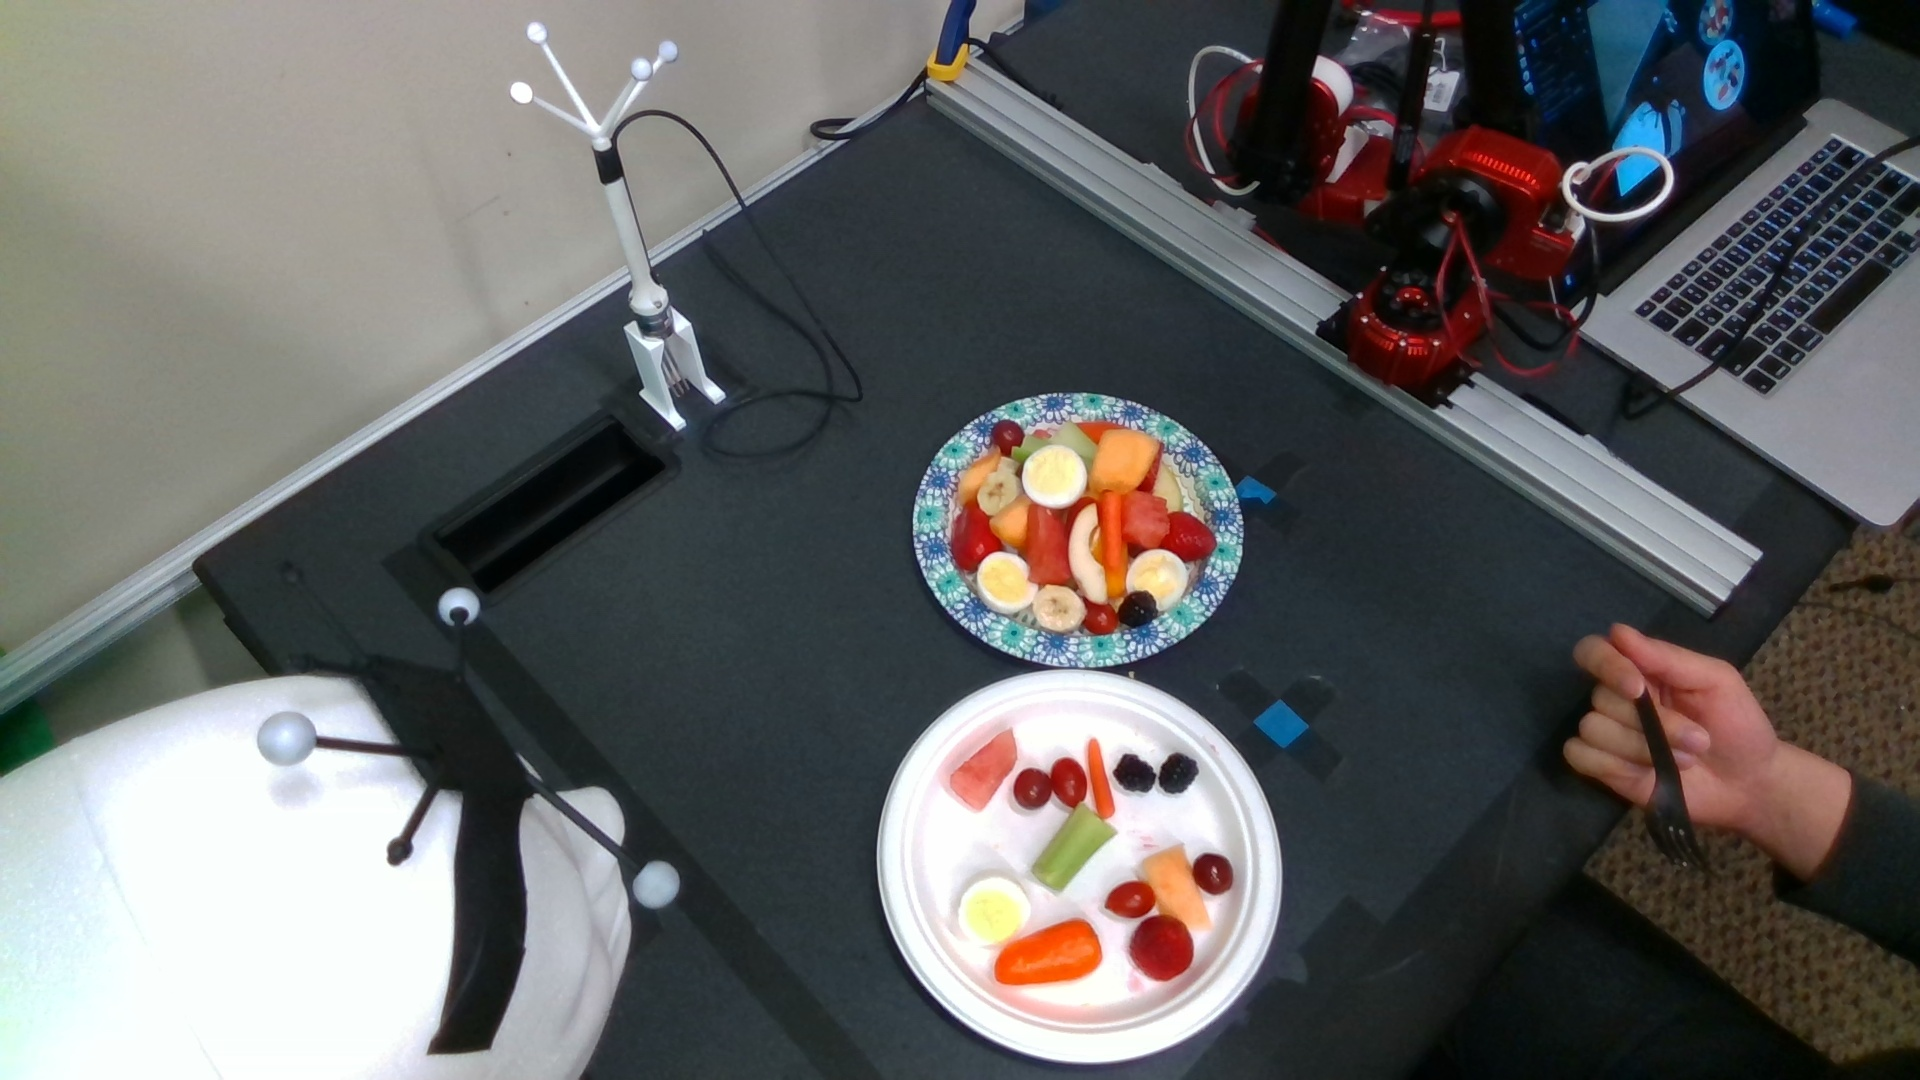apple: (1069, 502, 1110, 607)
banana: (1033, 585, 1087, 636), (976, 472, 1021, 516)
bell pepper: (993, 918, 1102, 986), (951, 501, 1004, 571)
blackberry: (1117, 589, 1158, 630), (1114, 754, 1156, 791), (1160, 753, 1196, 794)
cantalope: (1142, 847, 1211, 928), (1092, 429, 1162, 495)
carrot: (1097, 489, 1129, 603), (1087, 737, 1117, 820)
celery: (1031, 804, 1118, 895)
cherry tomato: (1102, 881, 1154, 919), (1048, 756, 1084, 807), (1083, 600, 1118, 640)
egg: (955, 872, 1029, 945), (1021, 444, 1087, 508), (977, 550, 1038, 615), (1126, 550, 1185, 612)
grape: (1192, 853, 1234, 895), (1011, 767, 1051, 807), (992, 421, 1025, 454)
melon: (943, 729, 1018, 812), (1027, 506, 1073, 583), (1124, 487, 1170, 549)
plate: (872, 671, 1279, 1058), (914, 392, 1250, 665)
strawberry: (1129, 916, 1197, 981), (1162, 512, 1215, 564)
